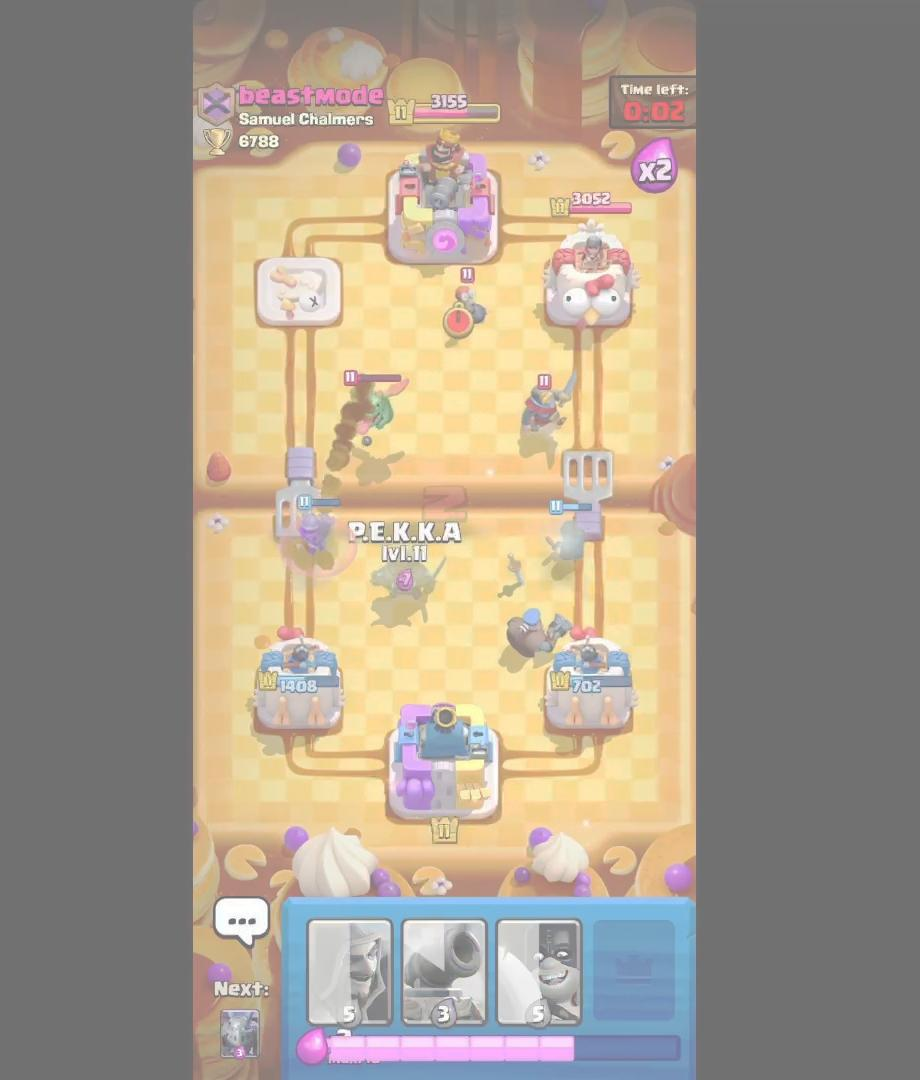Baby Dragon: (331, 367, 416, 448)
Bomber: (451, 271, 488, 334)
Knight: (514, 376, 578, 445)
